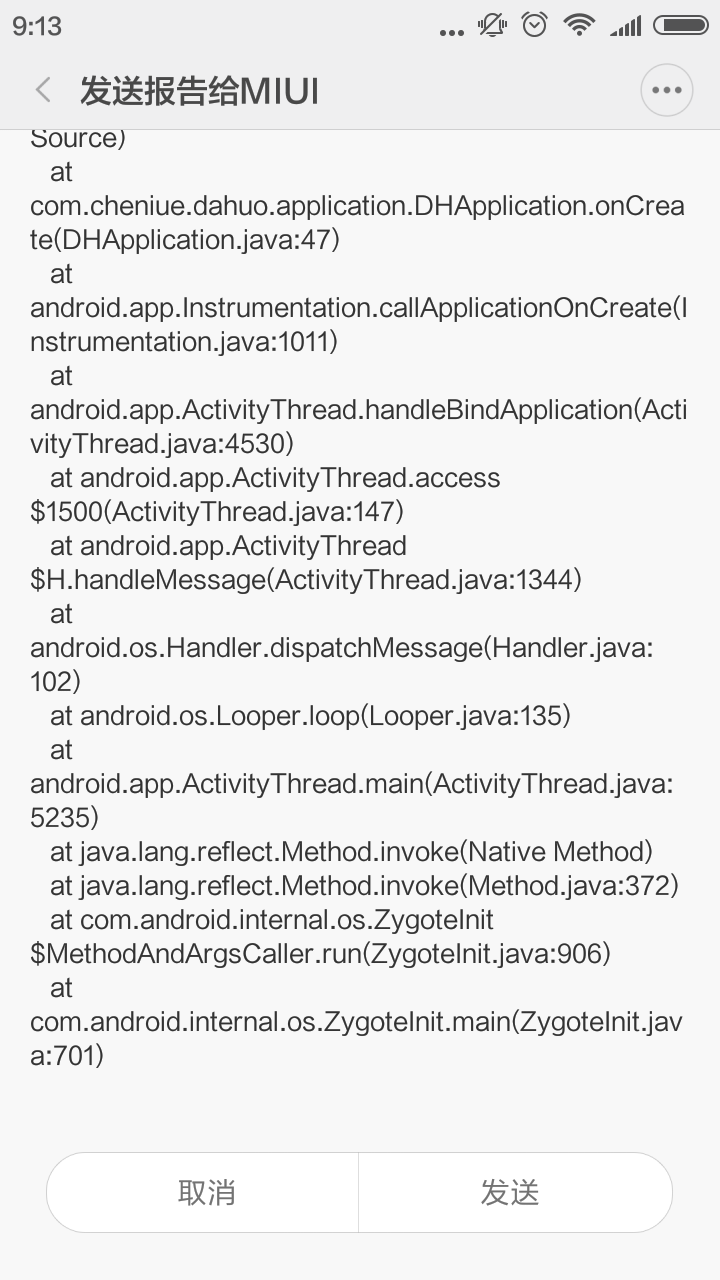button: (31, 1149, 690, 1244)
textview: (15, 131, 715, 1113)
